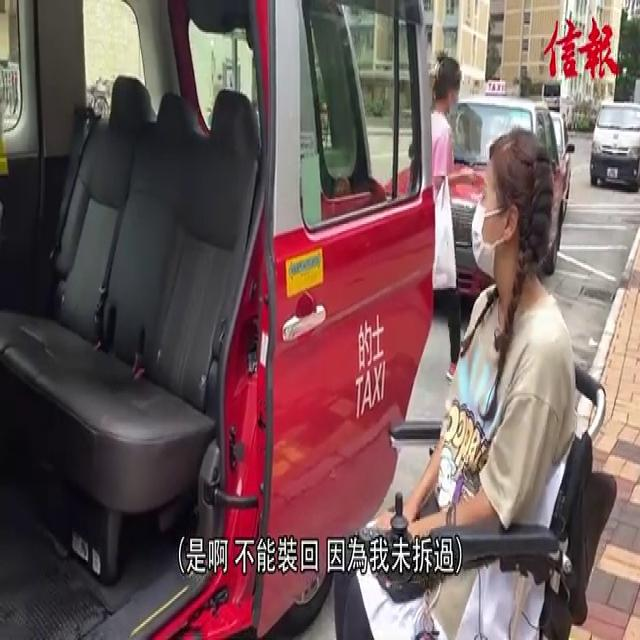wheelchairs: (356, 313, 620, 640)
